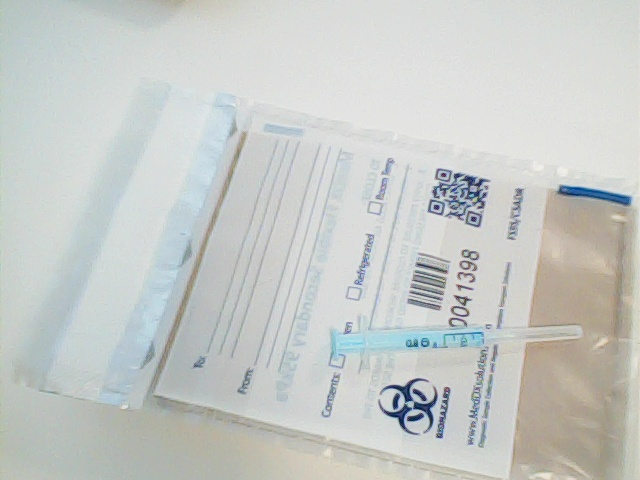syringe: (325, 315, 588, 374)
